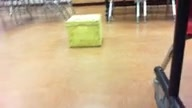cube: (65, 14, 101, 48)
